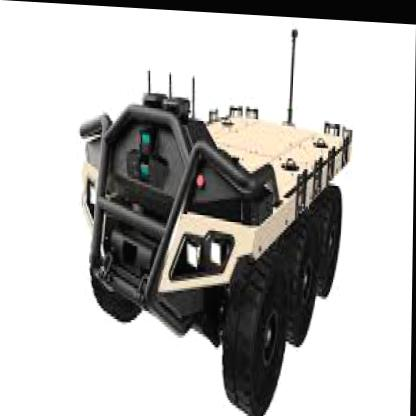UGV: (76, 66, 354, 415)
